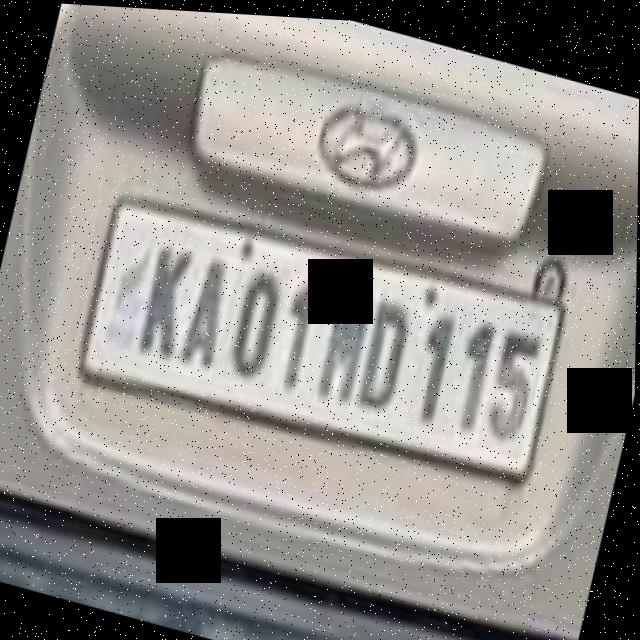0: (223, 254, 290, 386)
1: (405, 292, 470, 431), (442, 309, 501, 438), (268, 268, 325, 391)
5: (477, 319, 548, 453)
A: (170, 245, 239, 381)
D: (354, 282, 419, 414)
K: (130, 233, 198, 368)
M: (314, 271, 381, 404)
